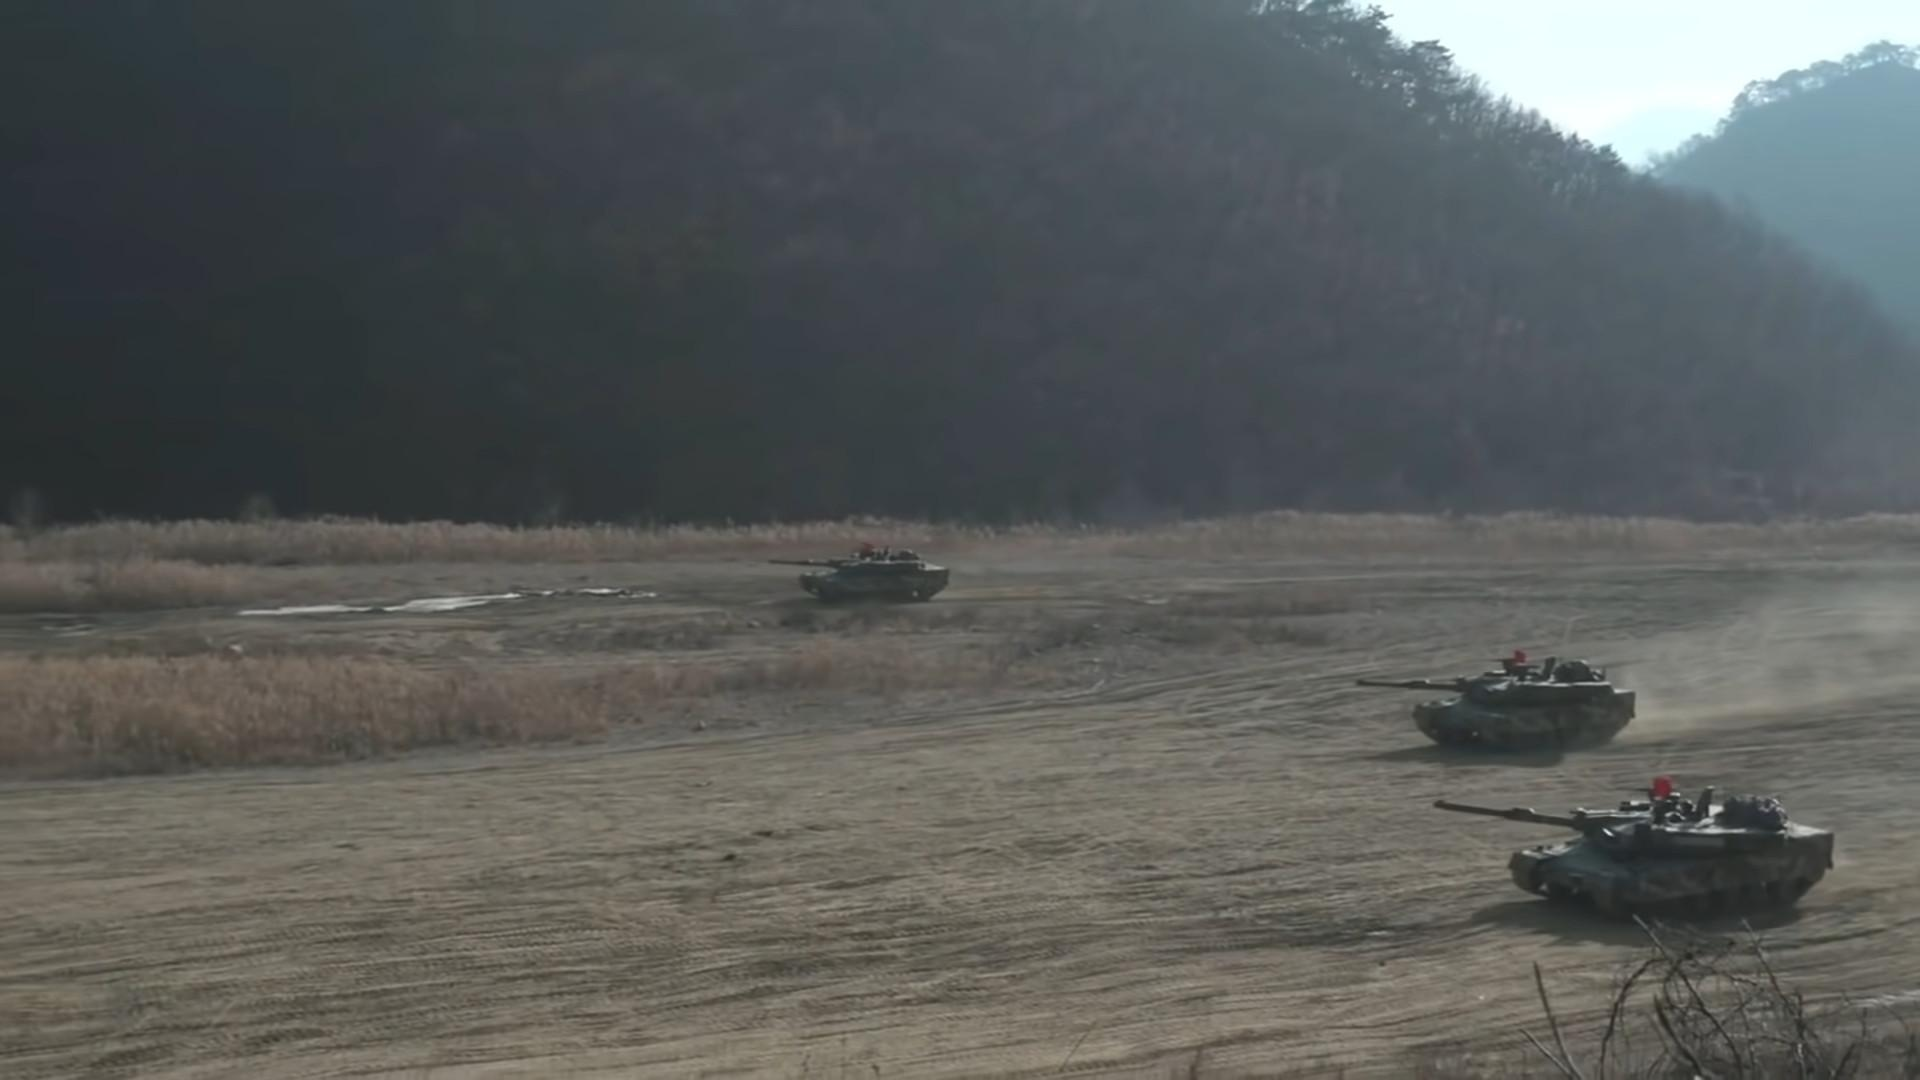tank: (1435, 783, 1834, 924), (1357, 657, 1635, 753), (767, 549, 949, 603)
